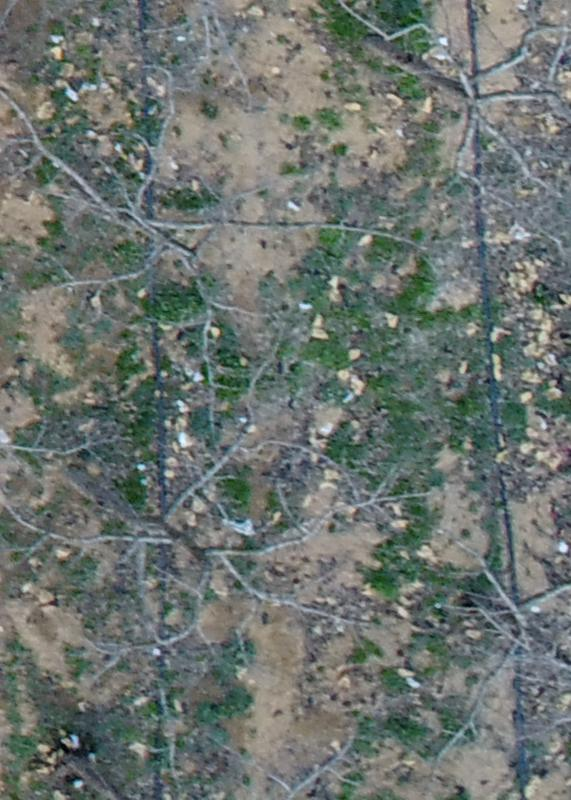apple: (10, 335, 388, 666), (10, 52, 273, 396), (335, 10, 561, 225)
